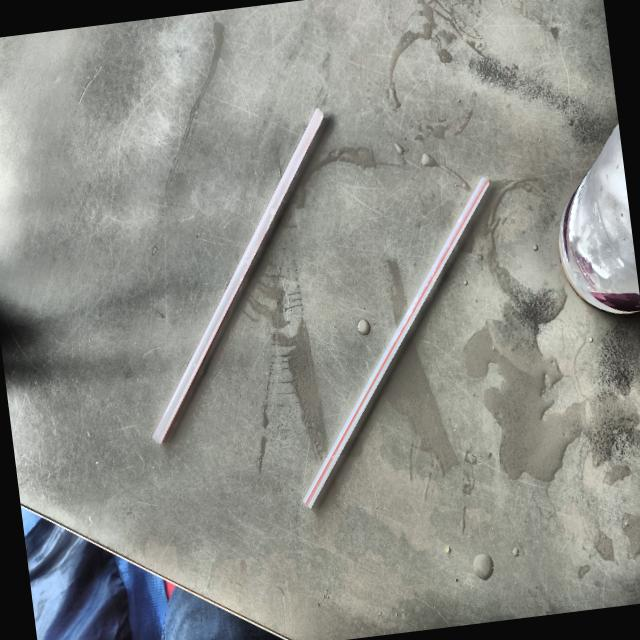plastic straw: (303, 177, 488, 508), (153, 109, 323, 442)
